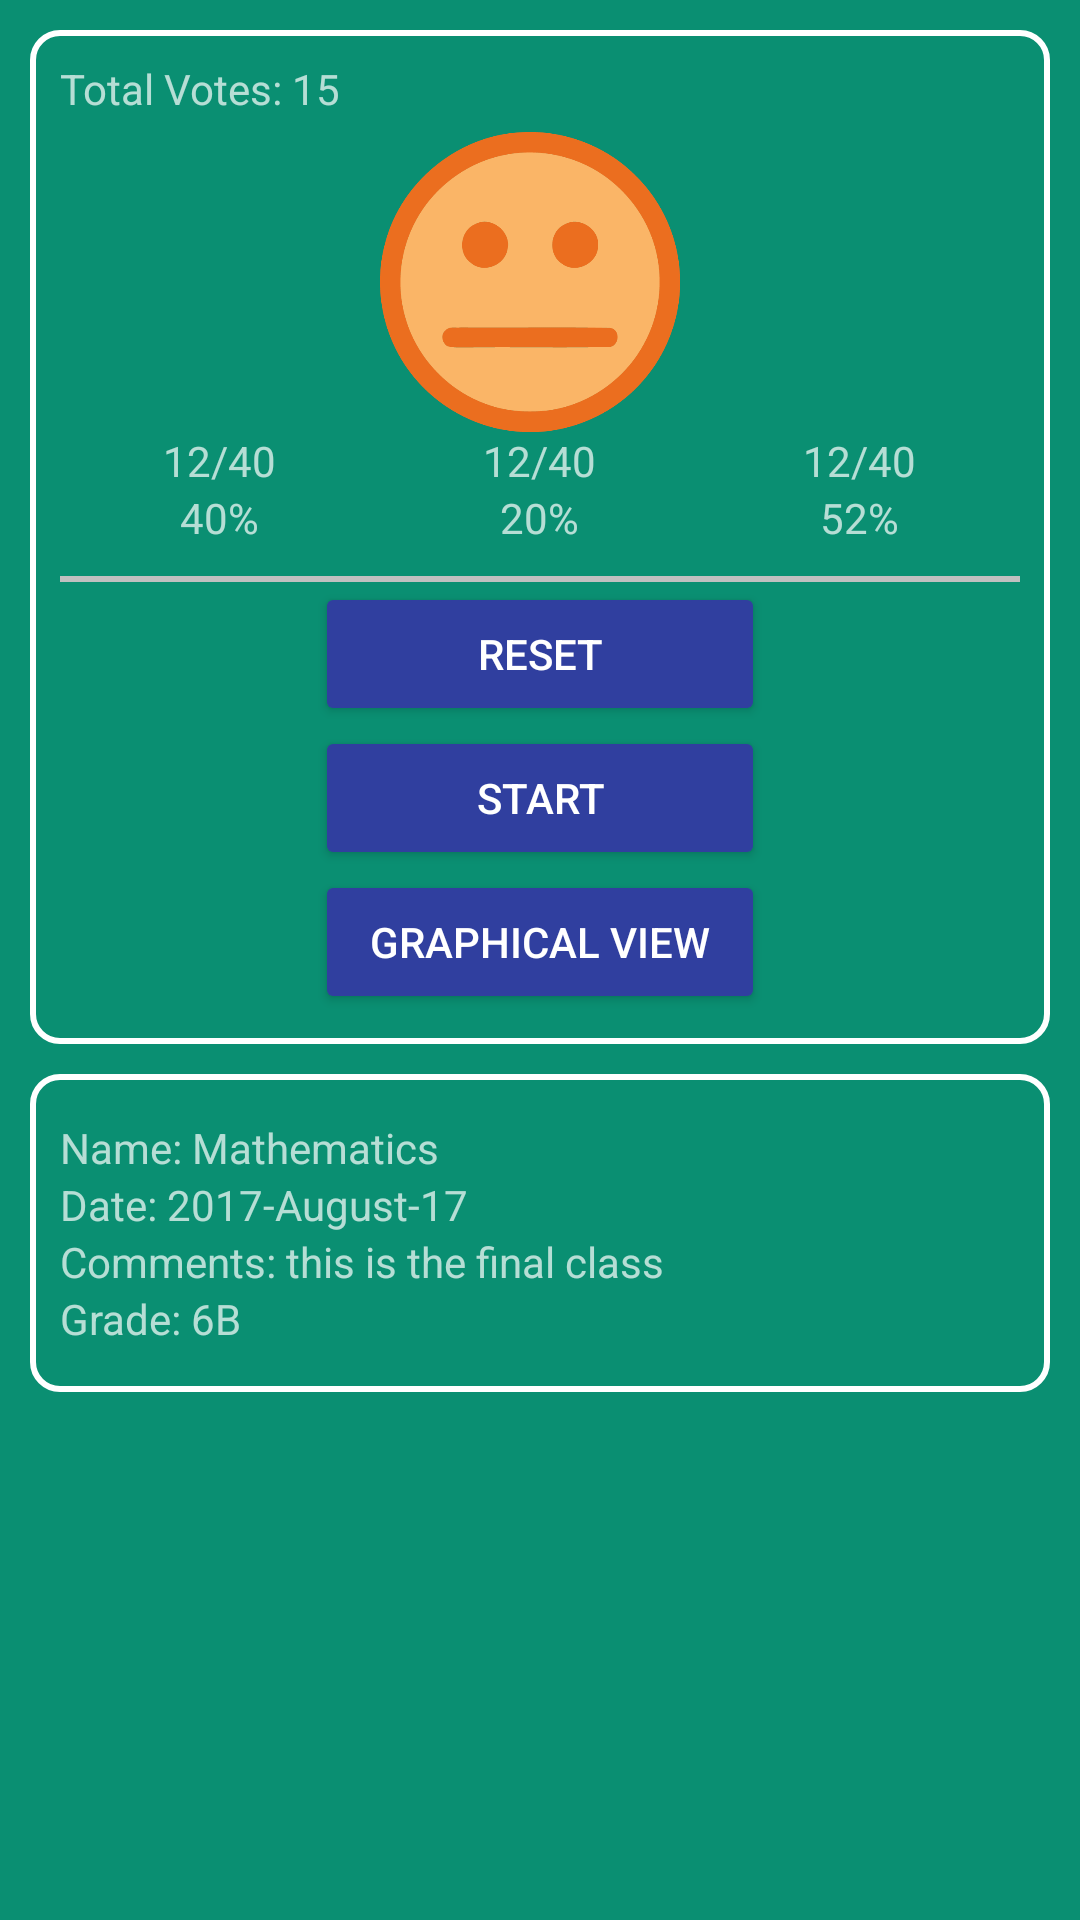

Named icons in this screenshot (1080 × 1920) and their centers, [x,y]:
neutral: [530,282]
